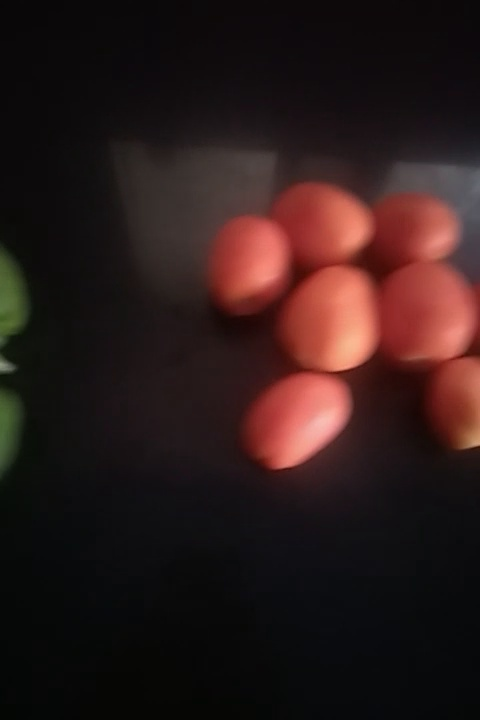capsicum: (1, 379, 43, 481), (1, 255, 33, 367)
tomato: (272, 268, 391, 377), (239, 373, 356, 467), (265, 180, 373, 270), (382, 267, 478, 364), (204, 216, 295, 316), (369, 186, 464, 270), (417, 366, 480, 467)
